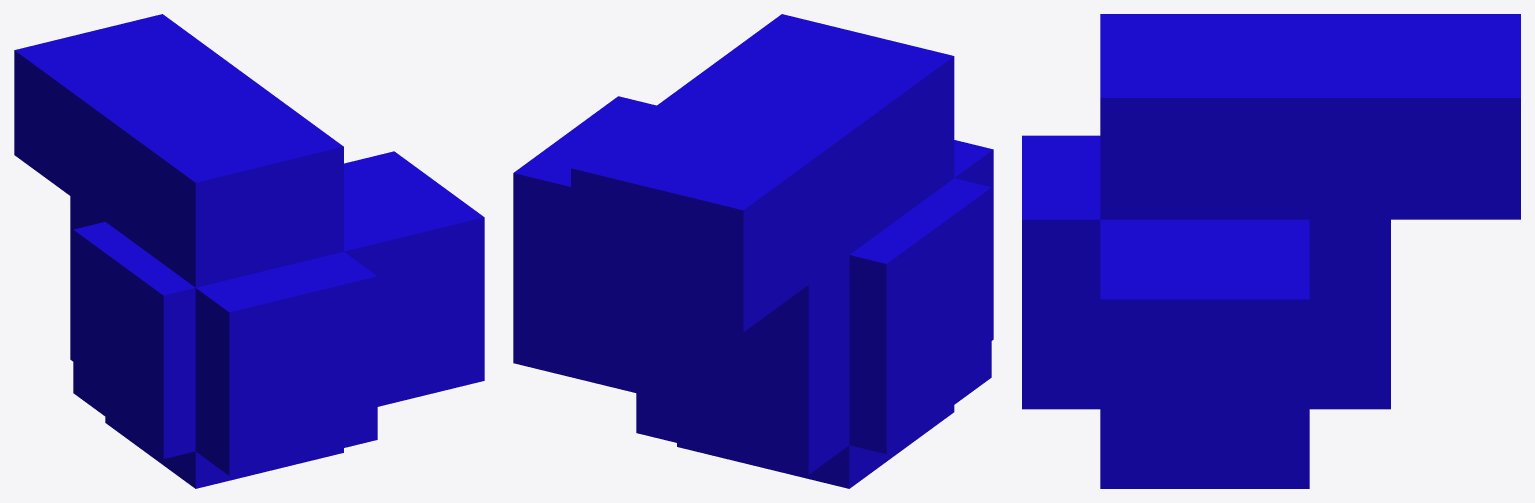
3 views of the same model, side by side, from view 1: azimuth 30°, elevation 25°; view 2: azimuth 150°, elevation 25°; view 3: azimuth 270°, elevation 25° (orthographic). The views are drawn at different scales.
Visible parts, largest first — view 1: Cube.001; view 2: Cube.001; view 3: Cube.001.
Part boxes in pixels (x1,y1,x2,y2): Cube.001: (14,14,484,488); Cube.001: (513,14,993,488); Cube.001: (1022,14,1520,488).
Size of the model in its own units: 4.11 by 3.74 by 4.77.
